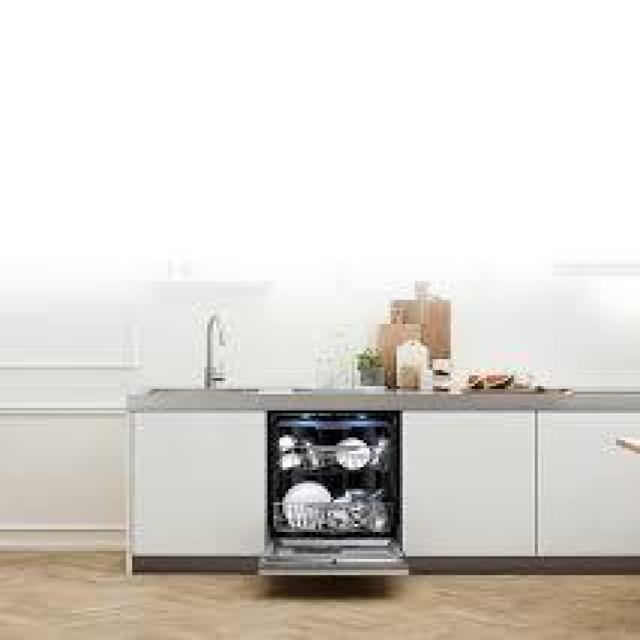dishwasher: (256, 405, 414, 581)
